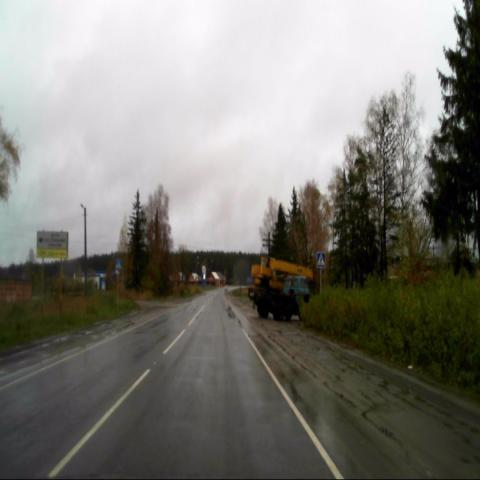5_19_1: (315, 251, 326, 268), (115, 258, 123, 270)
